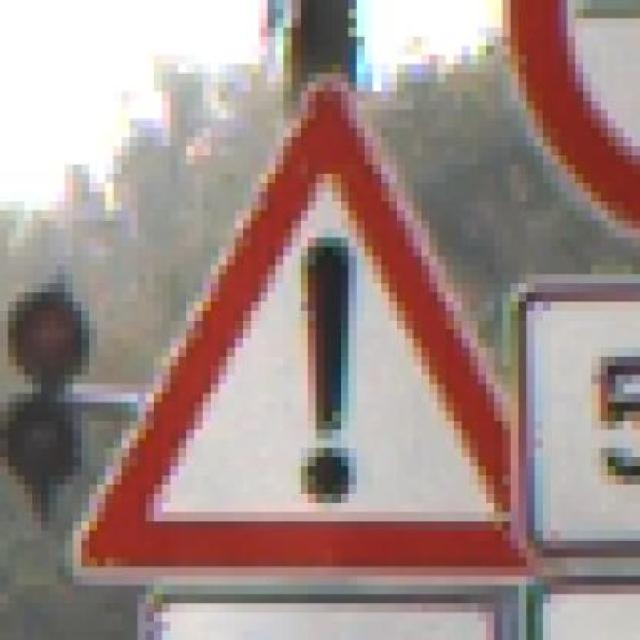Attention Please-: (73, 73, 584, 595)
